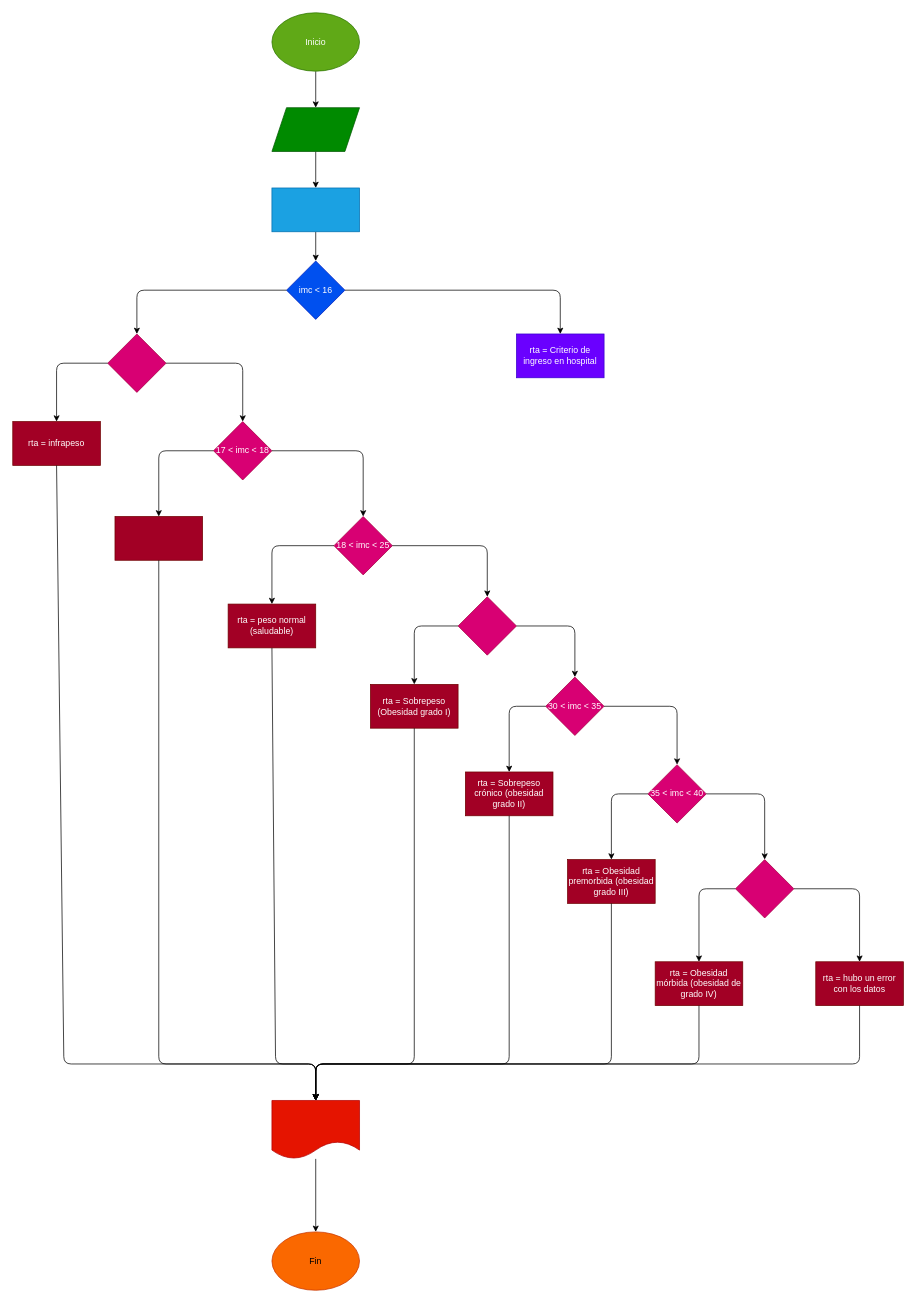
This 916x1303 diagram has some shape labels left out. Each missing label, with the centre of its shape:
"16 < imc < 17" belongs at point (136, 362).
"25 < imc < 30" belongs at point (486, 625).
"imc = p // (a ** 2)" belongs at point (315, 209).
"imc > 40" belongs at point (764, 888).
"p a" belongs at point (315, 129).
"rta" belongs at point (315, 1129).
"rta = Bajo peso" belongs at point (158, 538).
